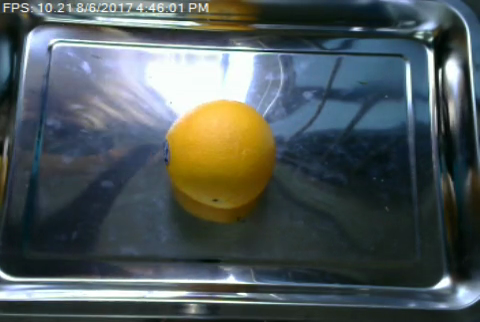Orange: (162, 100, 276, 208)
